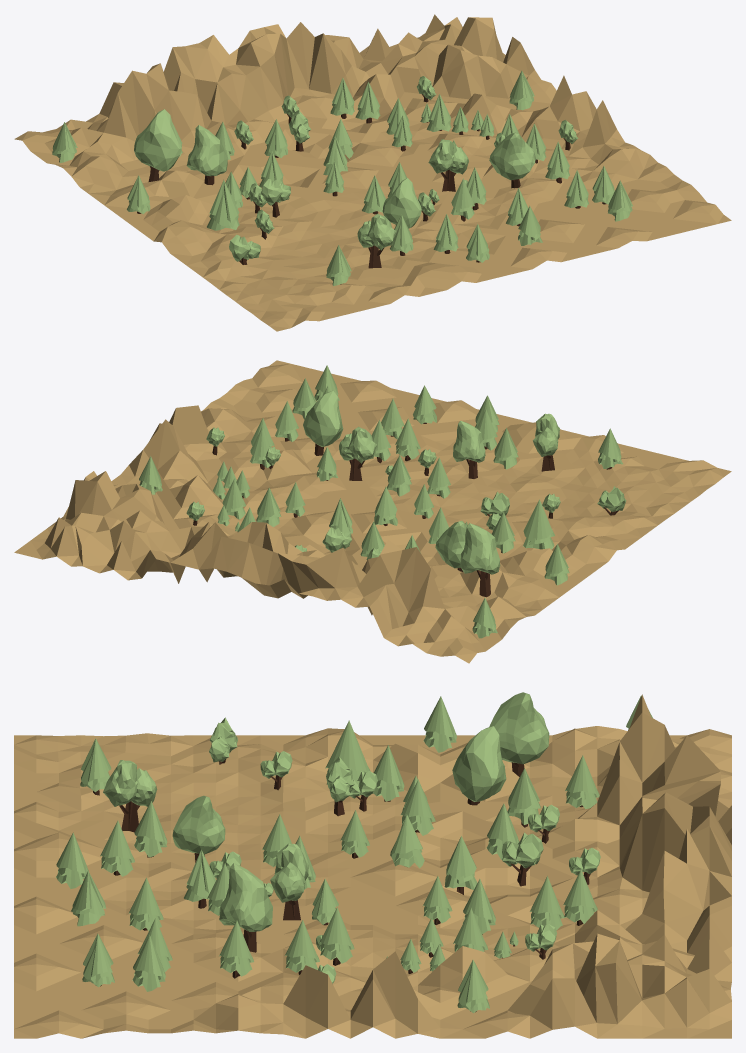
Rendered from environment_vr.fbx.
The picture shows the model from 3 angles, top to bottom: view 1: azimuth 30°, elevation 25°; view 2: azimuth 150°, elevation 25°; view 3: azimuth 270°, elevation 25°; orthographic projection. The views are drawn at different scales.
Visible parts, largest first — view 1: Landscape, LargeTree.002, LargeTree.003, LargeTree.004, LargeTree.001, SmallTree.013, SmallTree.005, Tree.028, SmallTree.002, Tree.029, SmallTree.012, Tree.025 (+18 smaller); view 2: Landscape, LargeTree.002, LargeTree.003, SmallTree.013, LargeTree.001, SmallTree.005, LargeTree.004, Tree.028, Tree.019, Tree.035, Tree.037, Tree.038 (+18 smaller); view 3: Landscape, LargeTree.002, LargeTree.004, LargeTree.003, LargeTree.001, SmallTree.005, SmallTree.013, SmallTree.011, Tree.009, Tree.010, Tree.018, Tree.015 (+35 smaller).
Boxes of the visible parts, <box> form: Landscape: <box>14,14,731,331</box>; LargeTree.002: <box>134,109,181,181</box>; LargeTree.003: <box>489,132,536,188</box>; LargeTree.004: <box>186,125,227,185</box>; LargeTree.001: <box>382,178,421,228</box>; SmallTree.013: <box>428,139,468,191</box>; SmallTree.005: <box>357,213,396,268</box>; Tree.028: <box>207,180,239,230</box>; SmallTree.002: <box>261,179,290,217</box>; Tree.029: <box>608,180,632,221</box>; SmallTree.012: <box>229,234,260,264</box>; Tree.025: <box>326,245,351,285</box>; Landscape: <box>14,360,731,663</box>; LargeTree.002: <box>460,523,500,597</box>; LargeTree.003: <box>303,391,343,455</box>; SmallTree.013: <box>339,426,377,480</box>; LargeTree.001: <box>453,420,485,478</box>; SmallTree.005: <box>533,413,559,471</box>; LargeTree.004: <box>435,520,466,571</box>; Tree.028: <box>523,499,554,549</box>; Tree.019: <box>395,418,420,461</box>; Tree.035: <box>493,428,518,469</box>; Tree.037: <box>387,455,411,496</box>; Tree.038: <box>544,544,569,585</box>; Landscape: <box>14,694,731,1038</box>; LargeTree.002: <box>489,692,549,776</box>; LargeTree.004: <box>452,726,506,805</box>; LargeTree.003: <box>219,863,272,952</box>; LargeTree.001: <box>172,795,225,862</box>; SmallTree.005: <box>103,760,157,832</box>; SmallTree.013: <box>270,843,308,920</box>; SmallTree.011: <box>502,832,543,886</box>; Tree.009: <box>219,920,253,978</box>; Tree.010: <box>319,907,354,965</box>; Tree.018: <box>444,836,477,894</box>; Tree.015: <box>100,820,134,876</box>.
Size of the model in its own units: 1801 by 1796 by 323.
